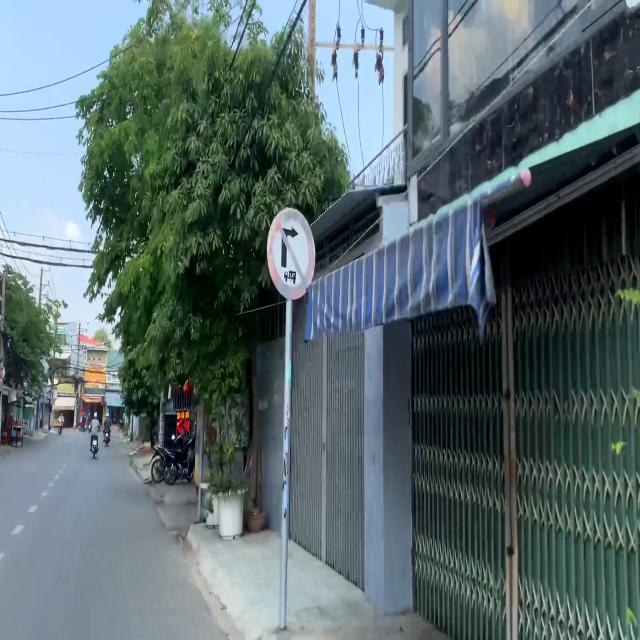P.103b: (267, 207, 315, 303)
